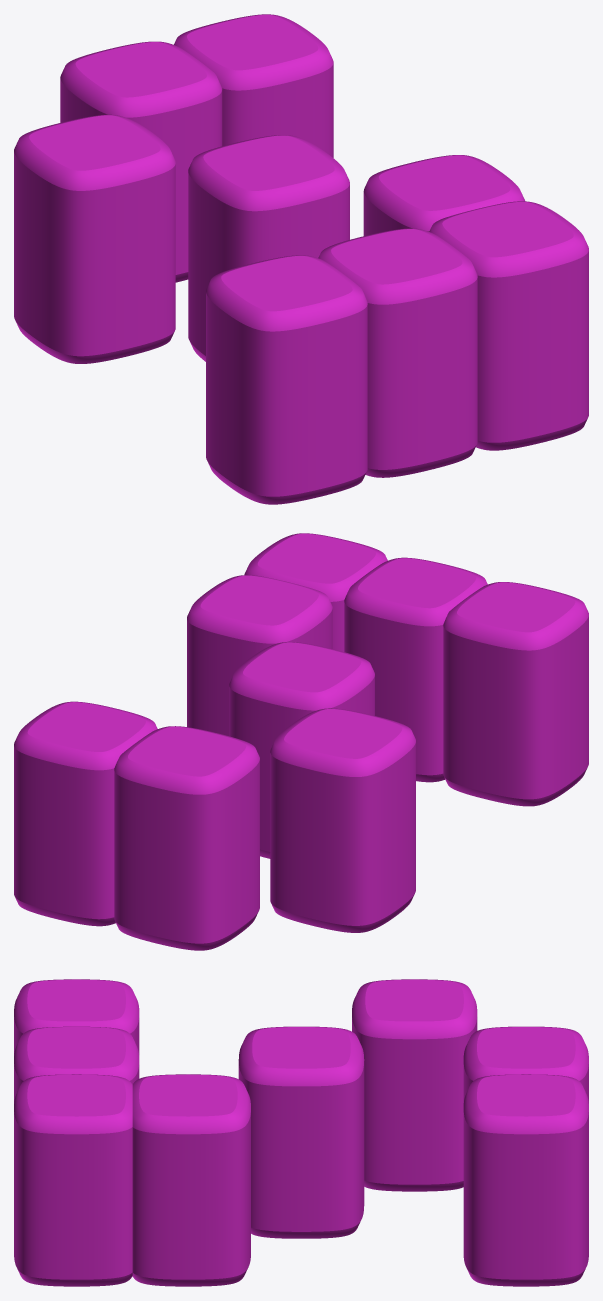
The model's file is Letter_s_Small.fbx.
The picture shows the model from 3 angles, top to bottom: view 1: azimuth 30°, elevation 25°; view 2: azimuth 150°, elevation 25°; view 3: azimuth 270°, elevation 25°; orthographic projection. The views are drawn at different scales.
Parts seen in each view (by area): view 1: Letter_s; view 2: Letter_s; view 3: Letter_s.
Boxes of the visible parts, x1=… form: Letter_s: x1=14, y1=14, x2=588, y2=504; Letter_s: x1=14, y1=533, x2=588, y2=950; Letter_s: x1=14, y1=979, x2=588, y2=1286.
Size of the model in its own units: 0.2619 by 0.14 by 0.43.
